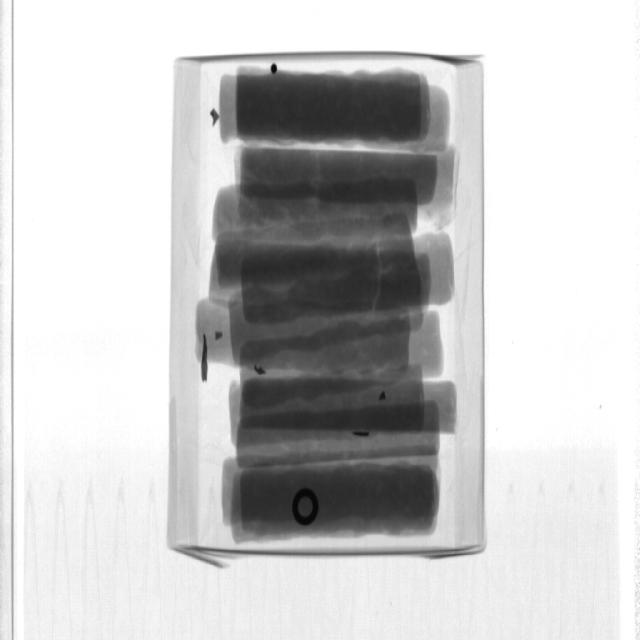ym: (293, 490, 320, 525), (202, 333, 209, 385), (211, 110, 221, 128), (352, 430, 371, 437), (255, 366, 266, 374), (380, 393, 388, 403), (272, 65, 279, 76), (216, 332, 223, 339)
